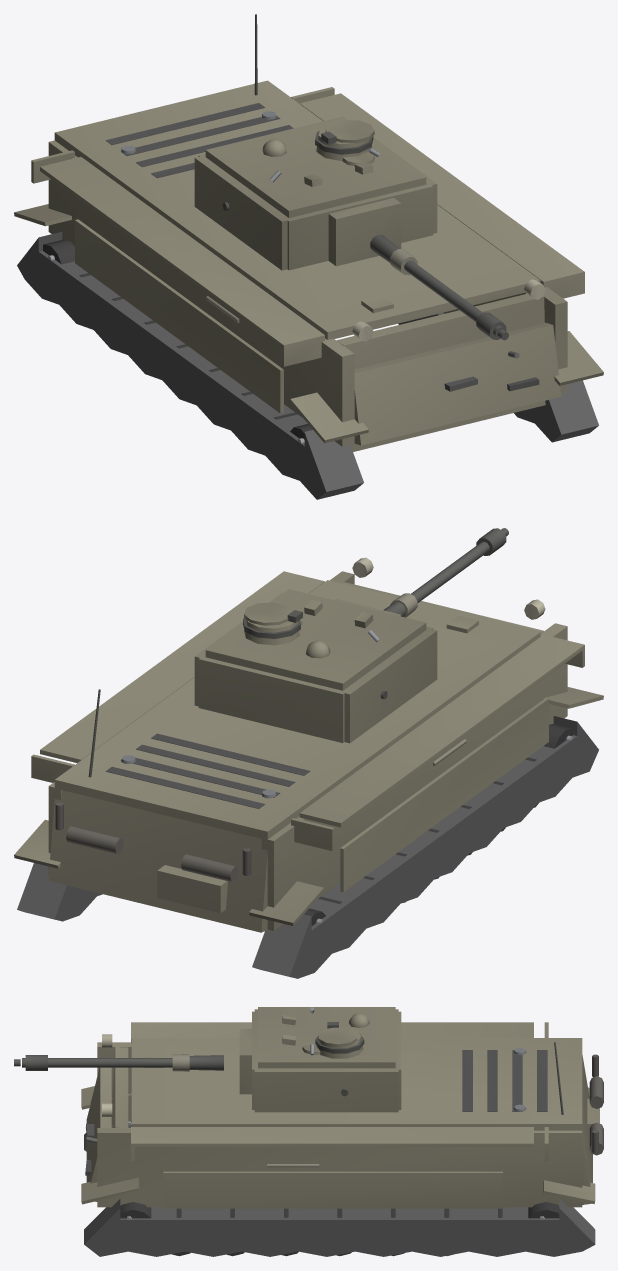
File: churchill7.glb
3 renders of one model, top to bottom at view 1: azimuth 30°, elevation 25°; view 2: azimuth 150°, elevation 25°; view 3: azimuth 270°, elevation 25°, orthographic. The views are drawn at different scales.
Visible parts, largest first — view 1: hullSide, hullTop, tracks, lowerPlate, turretRoof, glacis, turretSide, turretFront, mantlet, barrel; view 2: hullSide, hullTop, tracks, hullRear, turretRoof, turretRear, turretSide, barrel, glacis; view 3: hullSide, hullTop, tracks, turretRoof, turretSide, barrel, hullRear, glacis, lowerPlate, mantlet, turretRear, wheel16 (+2 smaller).
Part boxes in pixels (x1,y1,x2,y2): hullSide: (31, 87, 584, 446); hullTop: (54, 80, 540, 339); tracks: (14, 204, 603, 499); lowerPlate: (354, 323, 561, 445); turretRoof: (205, 116, 426, 217); glacis: (336, 294, 545, 451); turretSide: (194, 137, 437, 270); turretFront: (281, 185, 433, 270); mantlet: (328, 198, 401, 266); barrel: (370, 234, 508, 340); hullSide: (31, 557, 584, 930); hullTop: (54, 580, 540, 839); tracks: (14, 687, 603, 978); hullRear: (48, 689, 269, 932); turretRoof: (205, 589, 426, 690); turretRear: (198, 654, 346, 742); turretSide: (194, 592, 437, 743); barrel: (383, 528, 508, 617); glacis: (342, 582, 543, 633); hullSide: (97, 1022, 582, 1208); hullTop: (131, 1038, 582, 1130); tracks: (81, 1086, 595, 1256); turretRoof: (258, 1007, 395, 1068); turretSide: (254, 1009, 398, 1112); barrel: (14, 1054, 223, 1071); hullRear: (554, 1042, 603, 1204); glacis: (85, 1047, 164, 1175); lowerPlate: (86, 1067, 111, 1201); mantlet: (239, 1029, 251, 1094); turretRear: (391, 1011, 401, 1109); wheel16: (120, 1202, 151, 1219).
Bounding box in the file's own units: 4.38 × 3.25 × 9.
